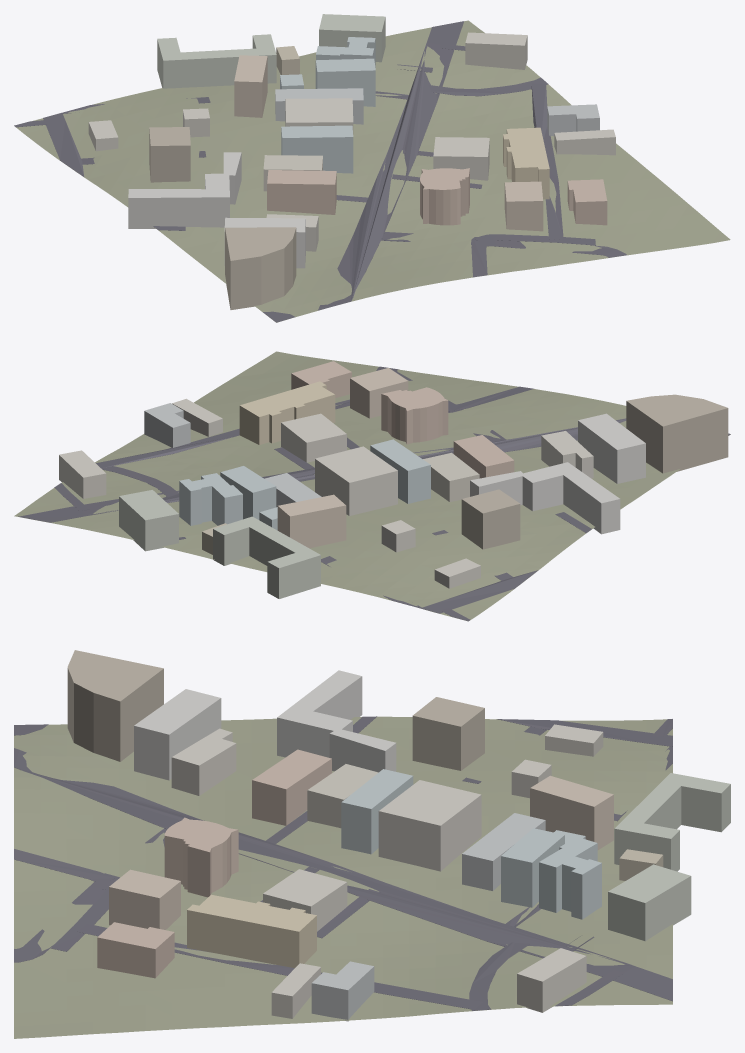
File: chunk_3_4.glb
3 views of the same model, one above another, from view 1: azimuth 30°, elevation 25°; view 2: azimuth 150°, elevation 25°; view 3: azimuth 270°, elevation 25° (orthographic). The views are drawn at different scales.
Visible parts, largest first — view 1: geometry_27, geometry_32, geometry_3, geometry_4, geometry_12, geometry_0, geometry_13, geometry_22, geometry_21, geometry_11, geometry_24, geometry_10 (+22 smaller); view 2: geometry_27, geometry_3, geometry_4, geometry_12, geometry_20, geometry_21, geometry_1, geometry_13, geometry_7, geometry_11, geometry_16, geometry_15 (+19 smaller); view 3: geometry_27, geometry_32, geometry_3, geometry_20, geometry_21, geometry_4, geometry_12, geometry_1, geometry_16, geometry_13, geometry_11, geometry_7 (+21 smaller).
Boxes of the visible parts, x1,y1,x2,y2 form: geometry_27: [14, 20, 730, 322]; geometry_32: [318, 21, 464, 310]; geometry_3: [225, 227, 296, 309]; geometry_4: [128, 152, 241, 228]; geometry_12: [157, 34, 276, 88]; geometry_0: [267, 170, 336, 214]; geometry_13: [420, 168, 469, 225]; geometry_22: [281, 125, 353, 173]; geometry_21: [503, 127, 549, 199]; geometry_11: [149, 127, 190, 182]; geometry_24: [465, 32, 527, 69]; geometry_10: [315, 58, 375, 106]; geometry_27: [14, 351, 730, 621]; geometry_3: [626, 394, 728, 473]; geometry_4: [470, 462, 620, 534]; geometry_12: [213, 516, 320, 598]; geometry_20: [315, 446, 397, 515]; geometry_21: [239, 381, 335, 444]; geometry_1: [578, 413, 645, 483]; geometry_13: [381, 387, 448, 444]; geometry_7: [277, 494, 346, 548]; geometry_11: [461, 489, 520, 549]; geometry_16: [119, 490, 178, 551]; geometry_15: [179, 473, 242, 525]; geometry_27: [14, 716, 672, 1038]; geometry_32: [14, 748, 672, 1001]; geometry_3: [67, 650, 163, 761]; geometry_20: [378, 780, 481, 871]; geometry_21: [187, 894, 316, 967]; geometry_4: [277, 670, 396, 772]; geometry_12: [614, 773, 730, 871]; geometry_1: [134, 689, 221, 780]; geometry_16: [608, 864, 691, 941]; geometry_13: [164, 817, 238, 897]; geometry_11: [412, 697, 484, 770]; geometry_7: [530, 775, 613, 849].
Bounding box in the file's own units: 266 × 40.68 × 272.
